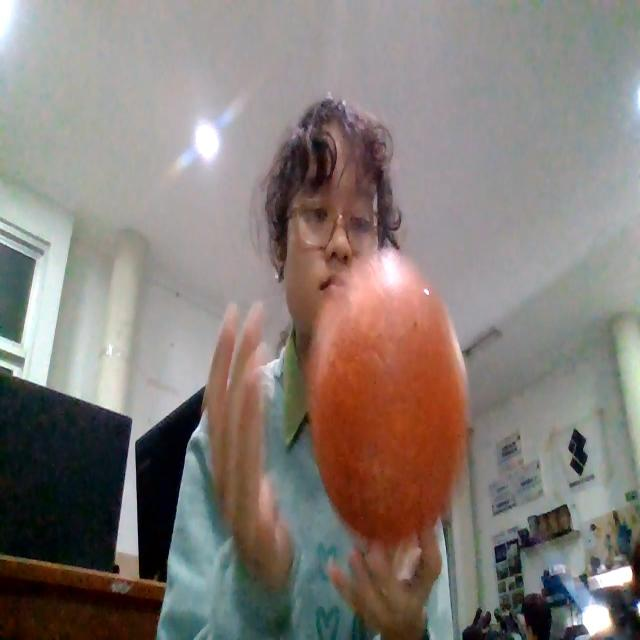ball: (305, 246, 469, 546)
